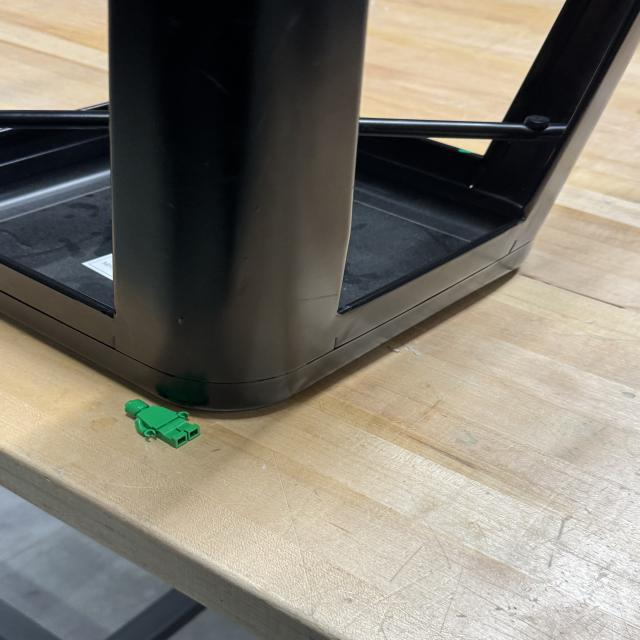Green Mini Figure: (125, 399, 200, 449)
